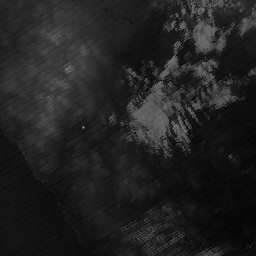Target: (80, 125, 85, 129)
